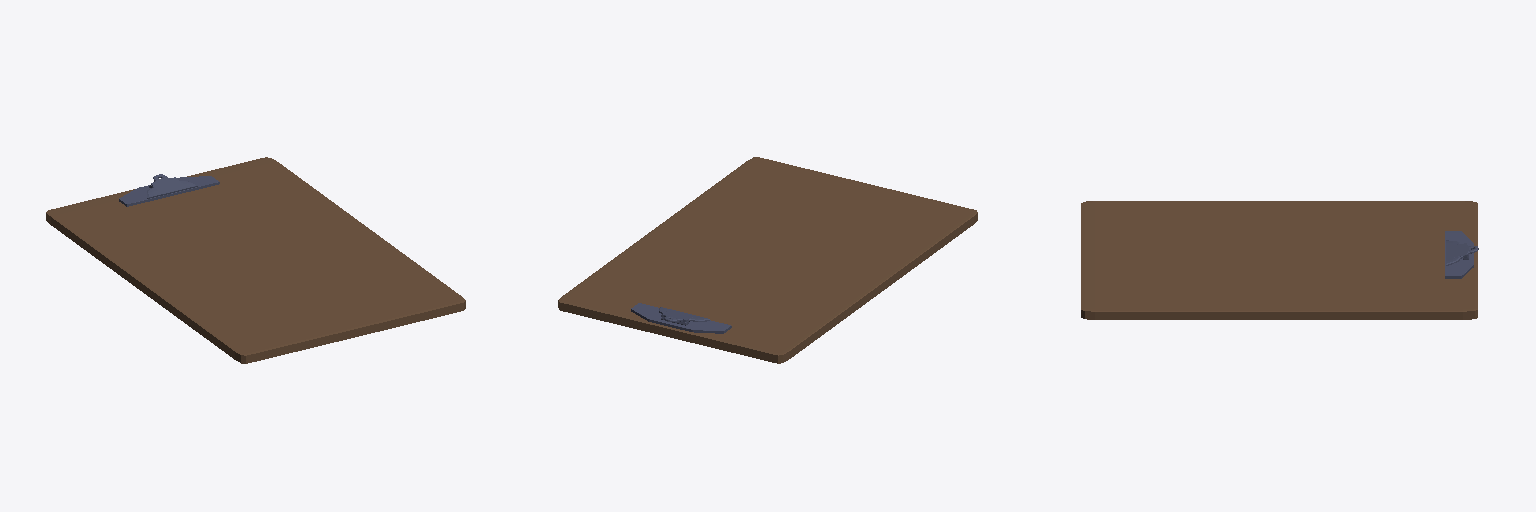
Rendered from Board.obj.
3 views of the same model, side by side, from view 1: azimuth 30°, elevation 25°; view 2: azimuth 150°, elevation 25°; view 3: azimuth 270°, elevation 25° (orthographic).
Visible parts, largest first — view 1: pCube5 polySurface3, pCube5 polySurface2, polySurface1 pCube5; view 2: pCube5 polySurface3, pCube5 polySurface2; view 3: pCube5 polySurface3, pCube5 polySurface2.
Boxes of the visible parts, x1=… form: pCube5 polySurface3: x1=46, y1=157, x2=465, y2=363; pCube5 polySurface2: x1=119, y1=176, x2=219, y2=206; polySurface1 pCube5: x1=147, y1=174, x2=197, y2=198; pCube5 polySurface3: x1=558, y1=157, x2=977, y2=363; pCube5 polySurface2: x1=631, y1=303, x2=731, y2=333; pCube5 polySurface3: x1=1081, y1=201, x2=1477, y2=319; pCube5 polySurface2: x1=1445, y1=231, x2=1473, y2=278.
Size of the model in its own units: 1.06 by 0.0785 by 1.61.